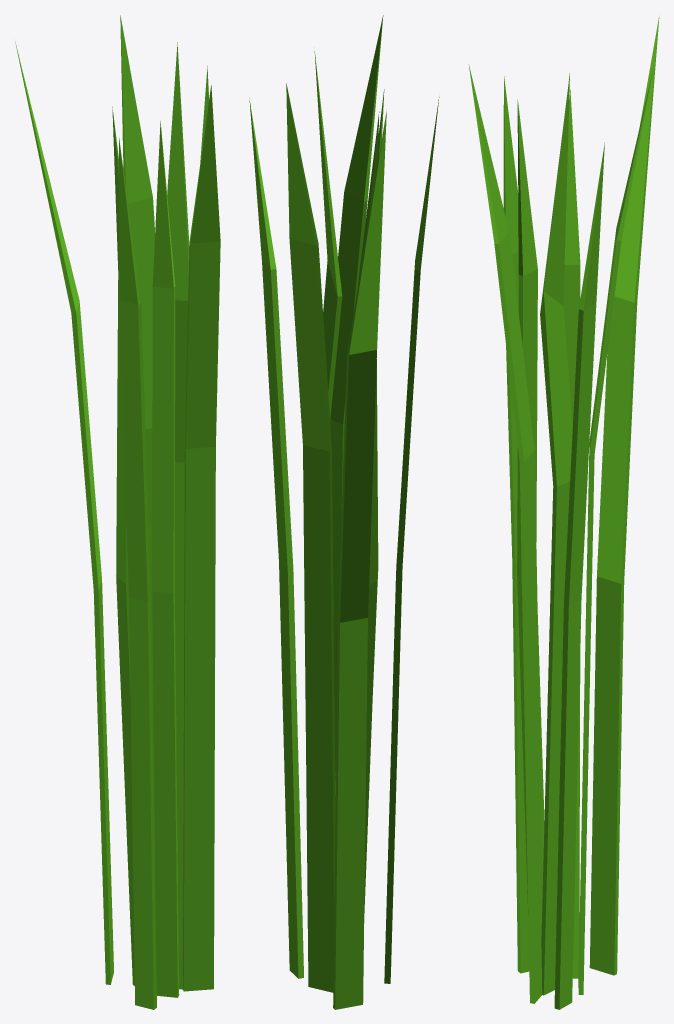
The model's file is TallGrass.FBX.
The picture shows the model from 3 angles, left to right: view 1: azimuth 30°, elevation 25°; view 2: azimuth 150°, elevation 25°; view 3: azimuth 270°, elevation 25°; orthographic projection.
Parts seen in each view (by area): view 1: LongGrass; view 2: LongGrass; view 3: LongGrass.
Boxes of the visible parts, x1,y1,x2,y2 form: LongGrass: (15, 15, 220, 1009); LongGrass: (249, 15, 439, 1009); LongGrass: (468, 16, 659, 1009).
Size of the model in its own units: 45.3 by 245 by 45.89.
